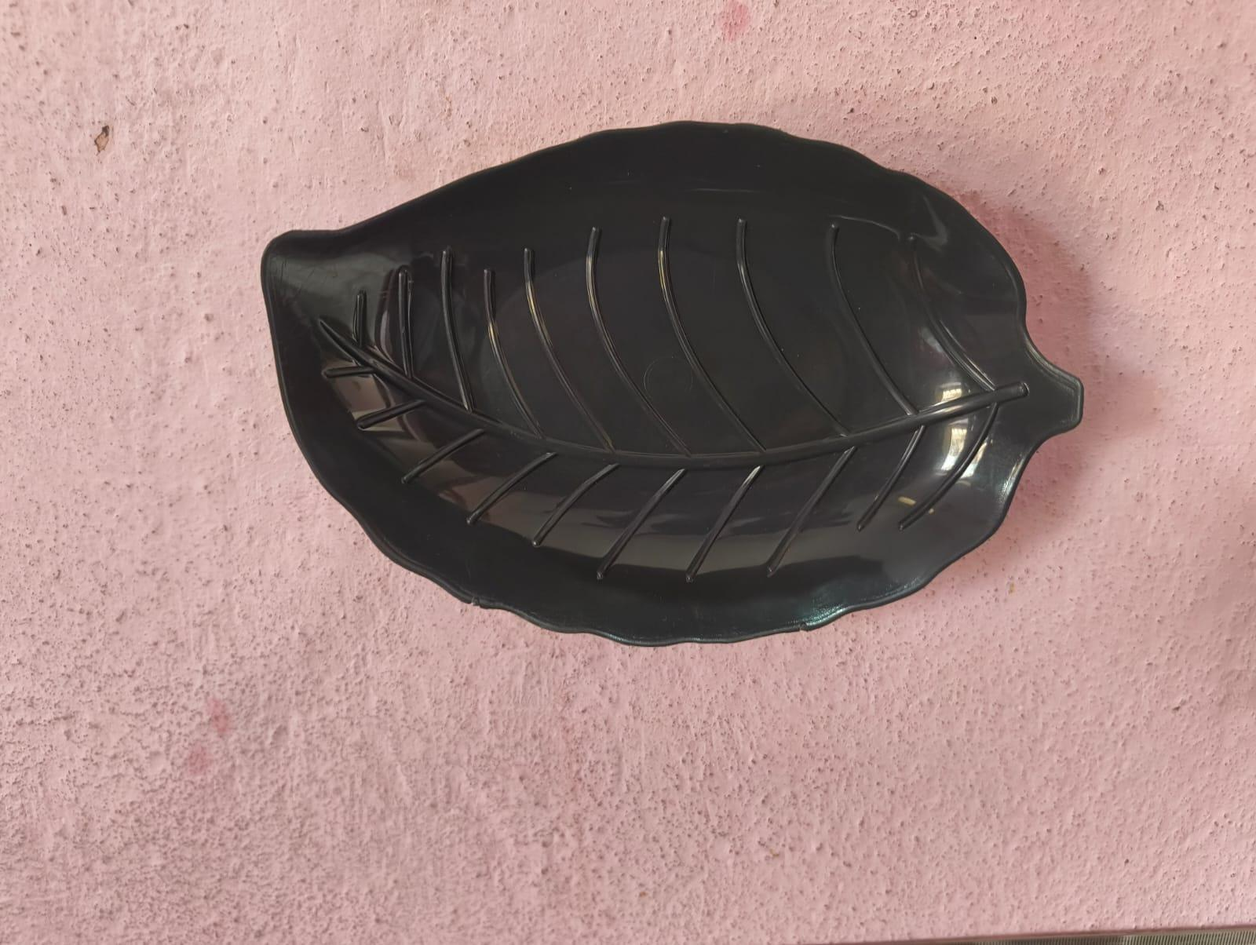plate: (261, 117, 1105, 654)
